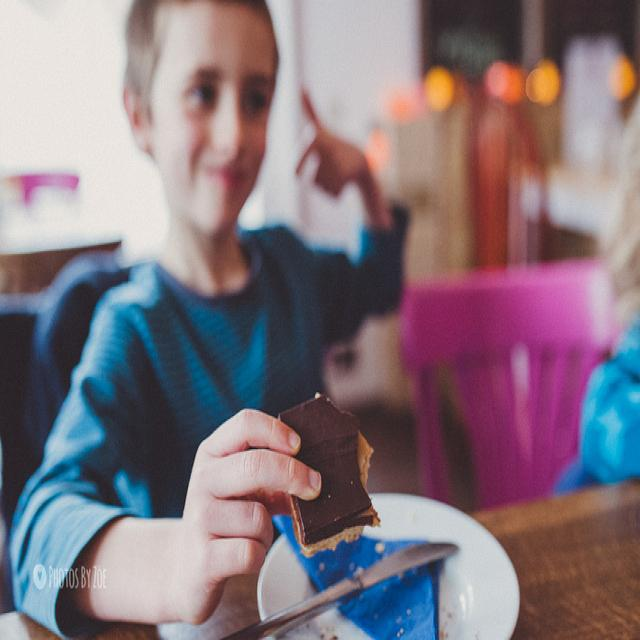chair: (398, 261, 613, 515), (24, 251, 157, 485)
dining table: (471, 460, 638, 639)
